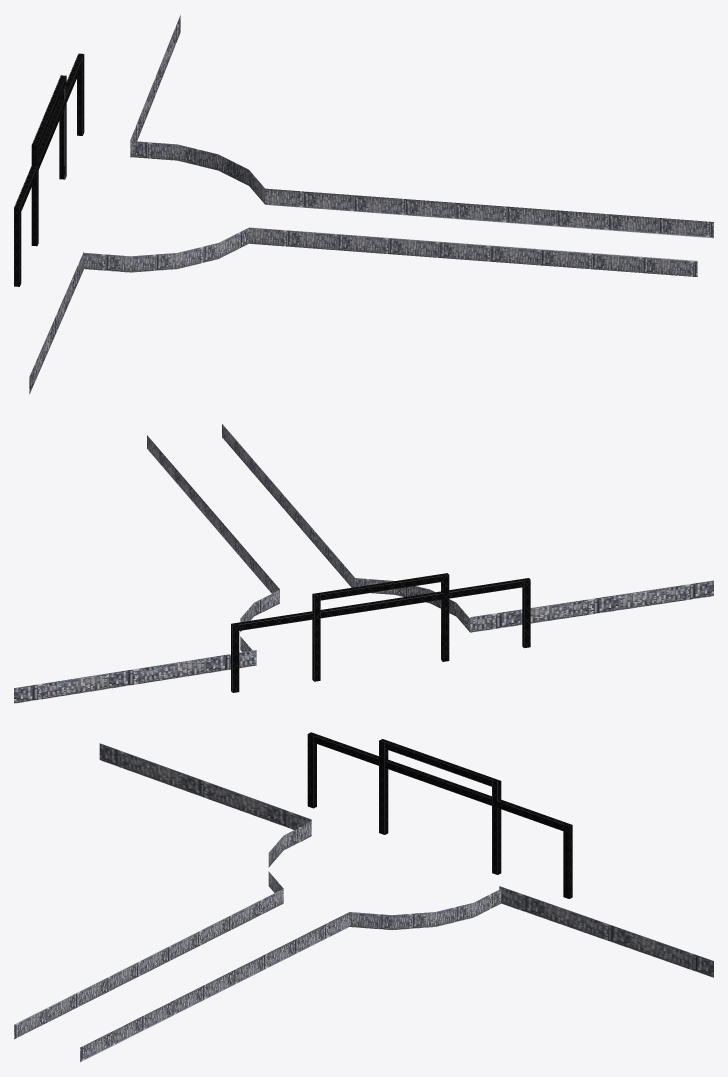
Rendered from Festival-Borders.fbx.
The picture shows the model from 3 angles, top to bottom: view 1: azimuth 30°, elevation 25°; view 2: azimuth 150°, elevation 25°; view 3: azimuth 270°, elevation 25°; orthographic projection. The views are drawn at different scales.
Visible parts, largest first — view 1: Cylinder001, Box001, Plane002; view 2: Plane002, Box001, Cylinder001; view 3: Cylinder001, Plane002, Box001.
Boxes of the visible parts, x1,y1,x2,y2 form: Cylinder001: [84, 141, 713, 276]; Box001: [14, 53, 84, 286]; Plane002: [29, 15, 180, 394]; Plane002: [14, 580, 713, 703]; Box001: [231, 573, 530, 692]; Cylinder001: [147, 424, 470, 651]; Cylinder001: [14, 821, 501, 1062]; Plane002: [99, 743, 713, 977]; Box001: [307, 732, 572, 898].
Bounding box in the file's own units: 62.68 × 8.93 × 61.25.
